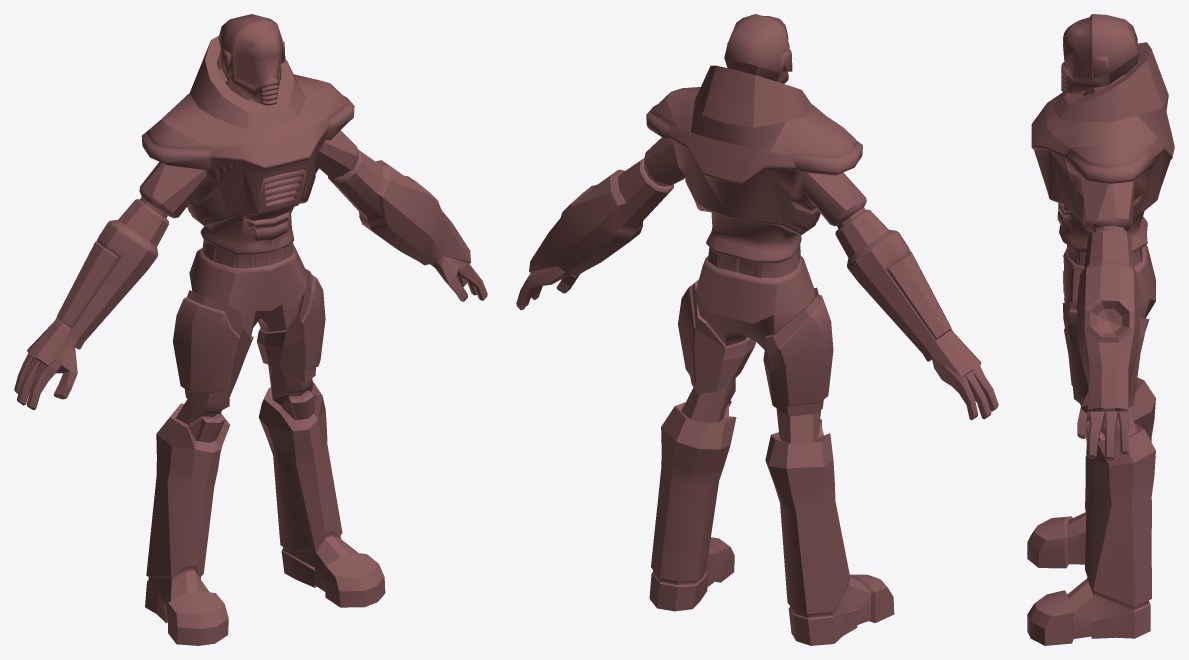
Rendered from SmallEnemyHellfire_high.fbx.
3 renders of one model, left to right at view 1: azimuth 30°, elevation 25°; view 2: azimuth 150°, elevation 25°; view 3: azimuth 270°, elevation 25°, orthographic. The views are drawn at different scales.
Visible parts, largest first — view 1: SmallEnemy_Base5; view 2: SmallEnemy_Base5; view 3: SmallEnemy_Base5.
Boxes of the visible parts, <box> form: SmallEnemy_Base5: <box>14,14,487,645</box>; SmallEnemy_Base5: <box>516,14,998,645</box>; SmallEnemy_Base5: <box>1027,14,1174,645</box>.
Size of the model in its own units: 157 by 189 by 43.73.
